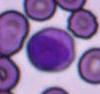M: (26, 26, 76, 72)
